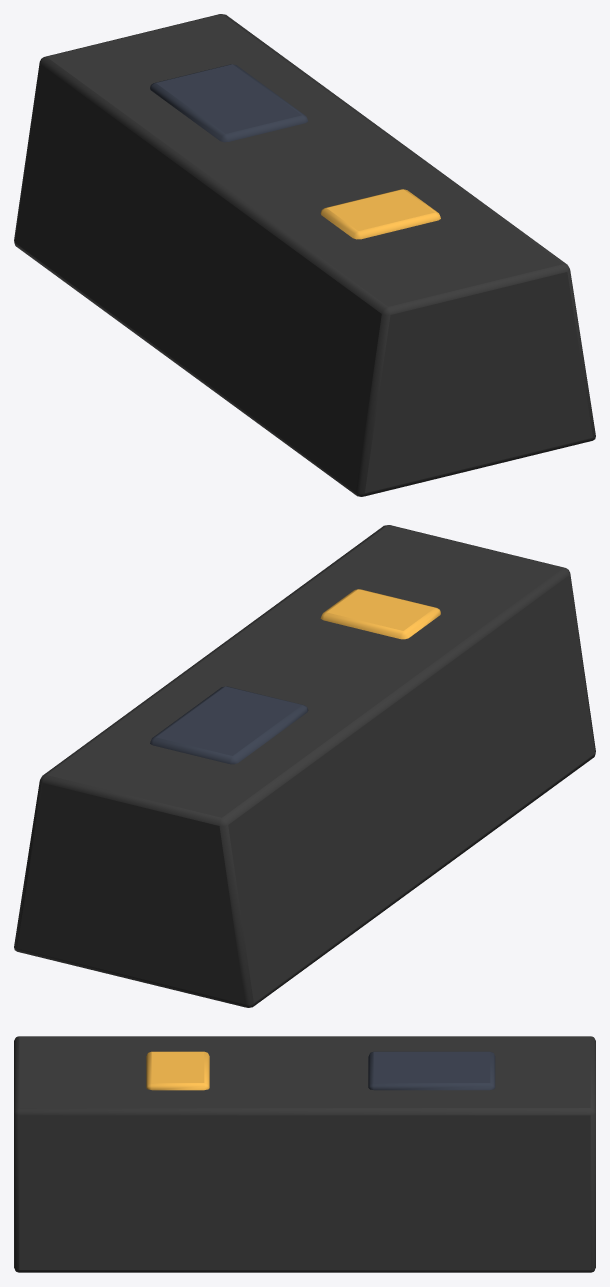
Rendered from ware_kohlefaser.fbx.
3 views of the same model, one above another, from view 1: azimuth 30°, elevation 25°; view 2: azimuth 150°, elevation 25°; view 3: azimuth 270°, elevation 25° (orthographic). The views are drawn at different scales.
Parts seen in each view (by area): view 1: ware_kohlefaser_Koerper; view 2: ware_kohlefaser_Koerper; view 3: ware_kohlefaser_Koerper.
Boxes of the visible parts, left/top/right/bottom form: ware_kohlefaser_Koerper: left=14, top=14, right=595, bottom=496; ware_kohlefaser_Koerper: left=14, top=525, right=595, bottom=1007; ware_kohlefaser_Koerper: left=14, top=1036, right=595, bottom=1272.
Size of the model in its own units: 0.2185 by 0.165 by 0.55.
